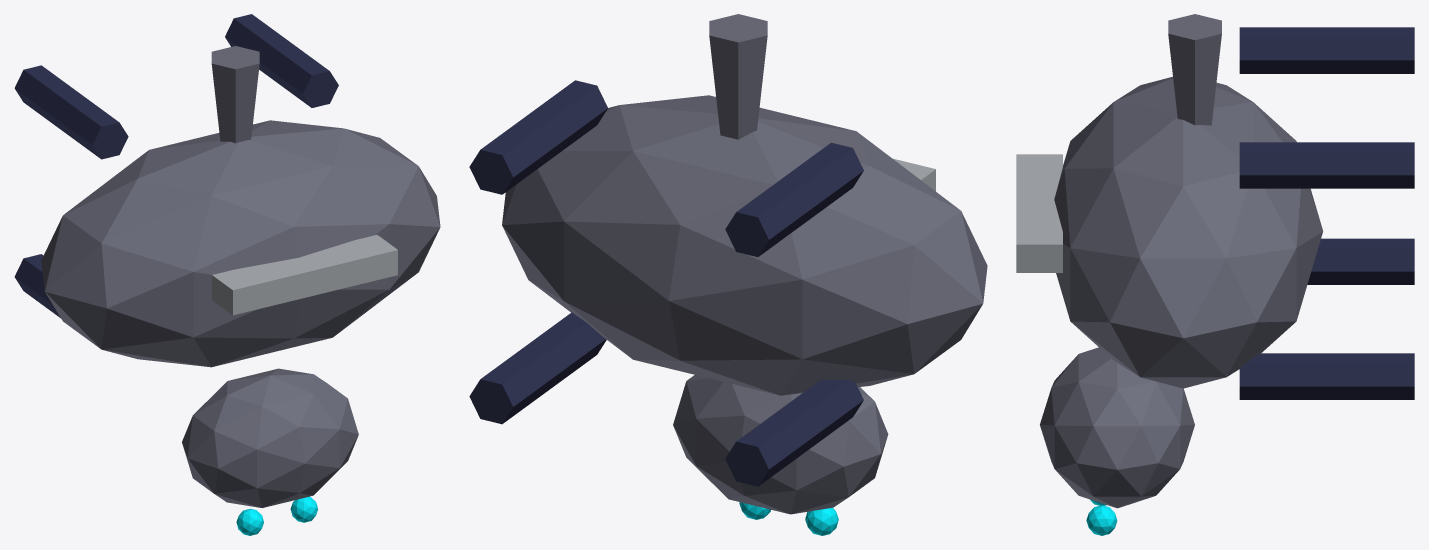
Rendered from 05_ambient_creature_listener.glb.
3 views of the same model, side by side, from view 1: azimuth 30°, elevation 25°; view 2: azimuth 150°, elevation 25°; view 3: azimuth 270°, elevation 25° (orthographic). The views are drawn at different scales.
Visible parts, largest first — view 1: creature_body, creature_head, mechanical_spine, leg_bl, leg_br, tail, leg_fl, eye_l, eye_r; view 2: creature_body, creature_head, leg_bl, leg_br, leg_fl, leg_fr, tail, eye_l; view 3: creature_body, creature_head, leg_bl, leg_br, leg_fr, mechanical_spine, tail, leg_fl, eye_r.
Part boxes in pixels (bbox=[...]): creature_body: bbox=[41, 120, 440, 367]; creature_head: bbox=[182, 368, 358, 507]; mechanical_spine: bbox=[212, 235, 397, 315]; leg_bl: bbox=[14, 65, 128, 159]; leg_br: bbox=[225, 14, 338, 107]; tail: bbox=[211, 46, 259, 143]; leg_fl: bbox=[14, 254, 60, 318]; eye_l: bbox=[236, 508, 263, 535]; eye_r: bbox=[290, 496, 318, 522]; creature_body: bbox=[502, 95, 987, 395]; creature_head: bbox=[673, 375, 888, 514]; leg_bl: bbox=[725, 142, 863, 256]; leg_br: bbox=[469, 80, 607, 194]; leg_fl: bbox=[725, 380, 863, 486]; leg_fr: bbox=[469, 312, 606, 424]; tail: bbox=[709, 14, 767, 139]; eye_l: bbox=[805, 507, 838, 535]; creature_body: bbox=[1054, 76, 1323, 388]; creature_head: bbox=[1040, 347, 1194, 508]; leg_bl: bbox=[1239, 27, 1414, 73]; leg_br: bbox=[1239, 142, 1414, 188]; leg_fr: bbox=[1239, 353, 1414, 399]; mechanical_spine: bbox=[1016, 154, 1062, 272]; tail: bbox=[1168, 14, 1221, 125]; leg_fl: bbox=[1307, 238, 1414, 284]; eye_r: bbox=[1086, 505, 1117, 535].
Bounding box in the file's own units: 1.3 × 1.4 × 1.03.
